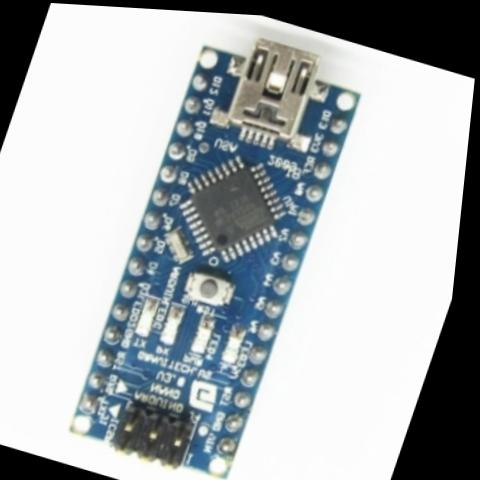Arduino-Nano: (59, 5, 382, 480)
